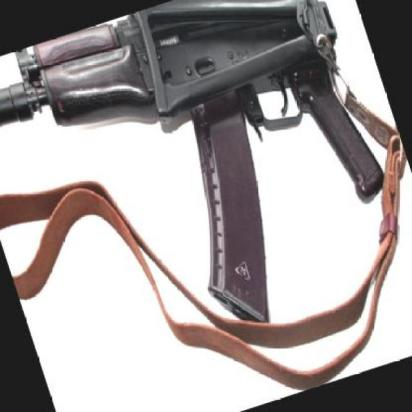Gun: (0, 0, 386, 322)
